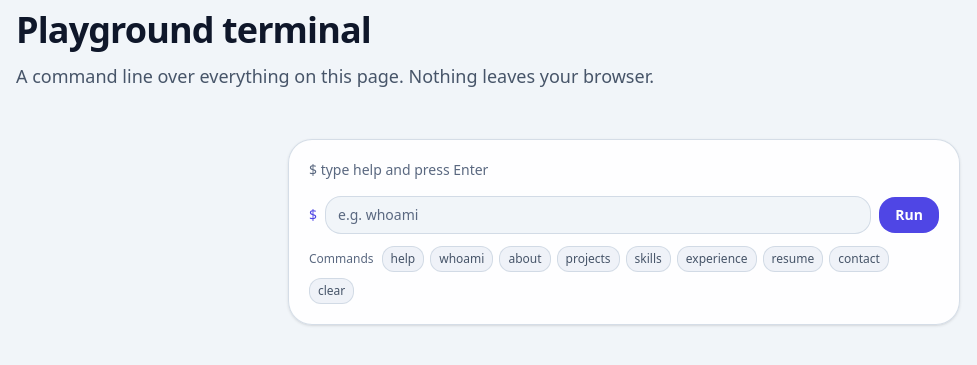
Terminal › runs a command and prints its output
The image size is (977, 365).
Expected: the text "$ type help and press Enter" is shown, [309,160,488,179]
Type "whoami" into the field named "Terminal command" at [598, 215], box [325,196,871,234]
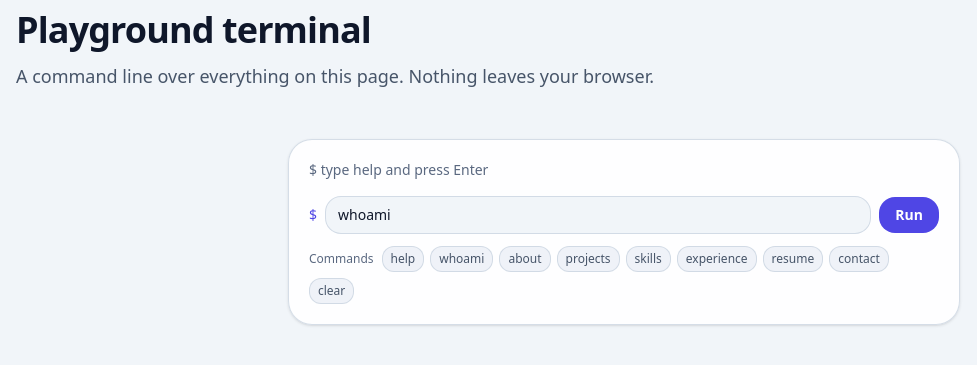
Click the button "Run" at [909, 215], box [879,197,939,233]
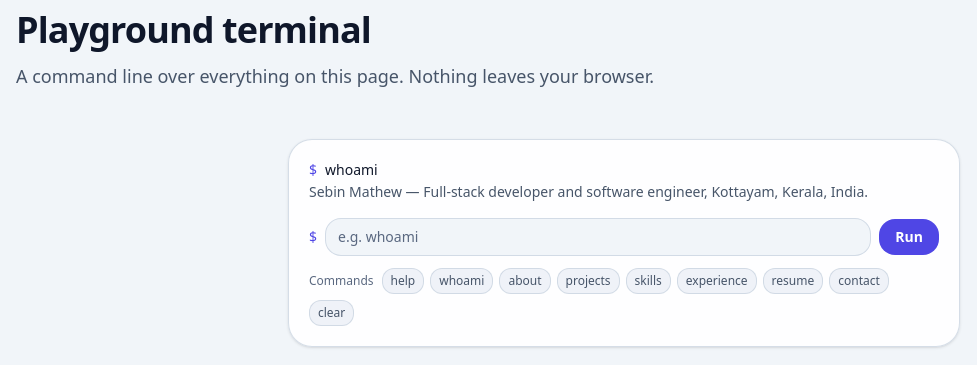
Expected: the text "Sebin Mathew" is shown, [309,182,868,201]
